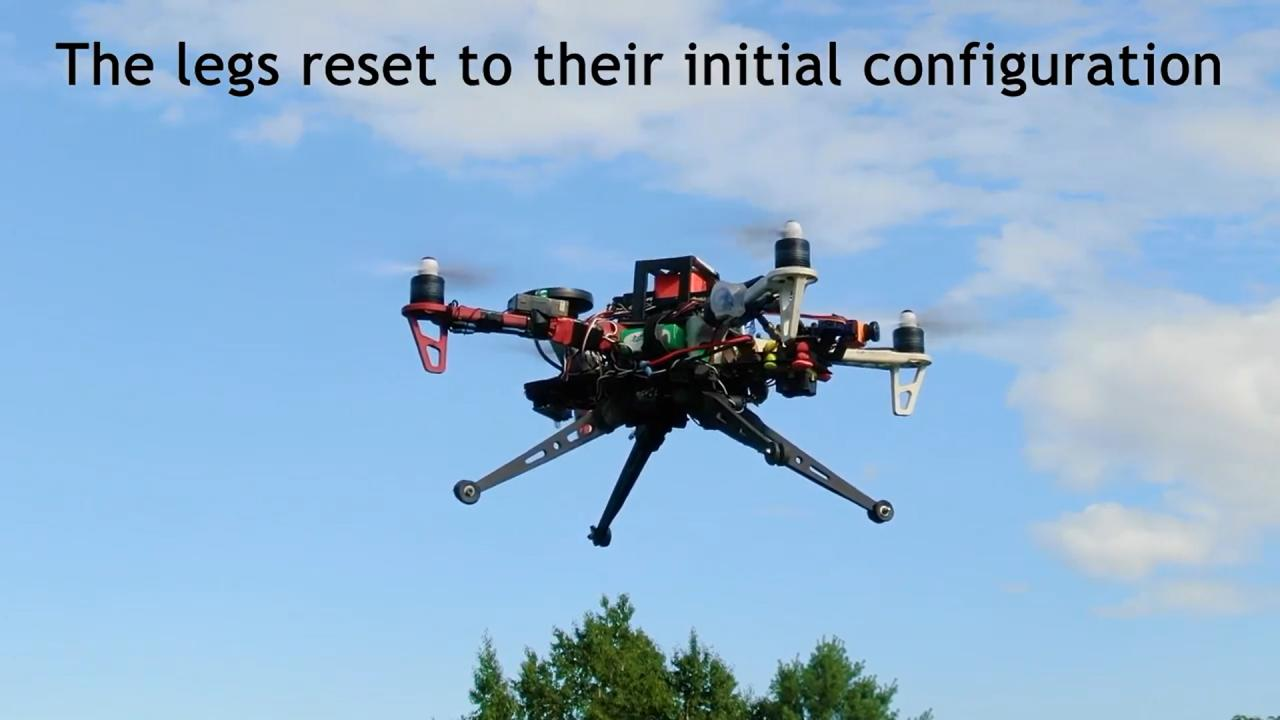Drone: (340, 202, 1030, 558)
